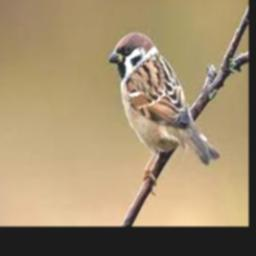Sparrow: (109, 32, 220, 189)
